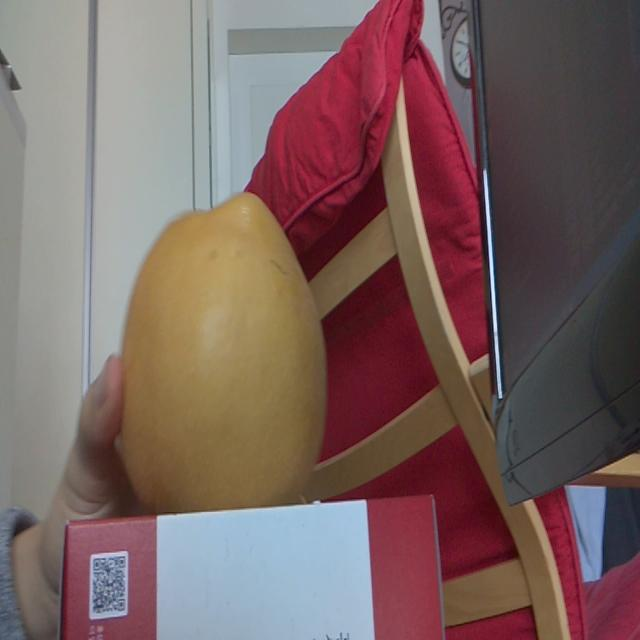pear: (117, 194, 326, 498)
